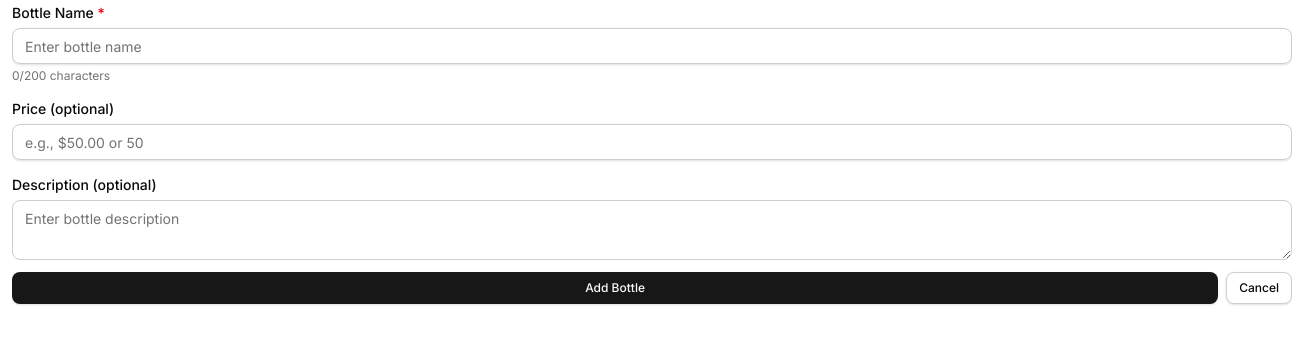
Test case: ItemForm › shows validation error for invalid price format
Type "Merlot" into the field labelled "Bottle Name *". click: [652, 46]
box: [12,28,1292,64]
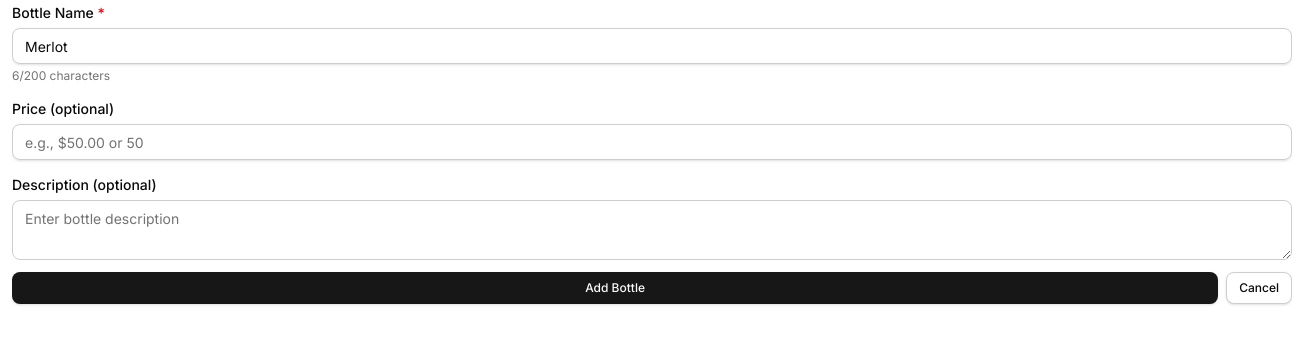
Type "abc" into the field labelled "Price (optional)". click: [652, 142]
box: [12,124,1292,160]
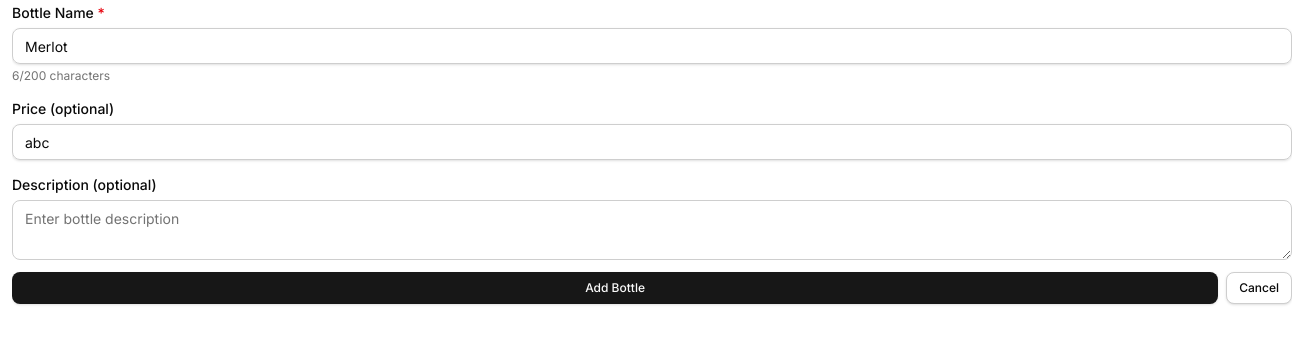
Click the button "Add Bottle". click: [615, 288]
box: [12,272,1218,304]
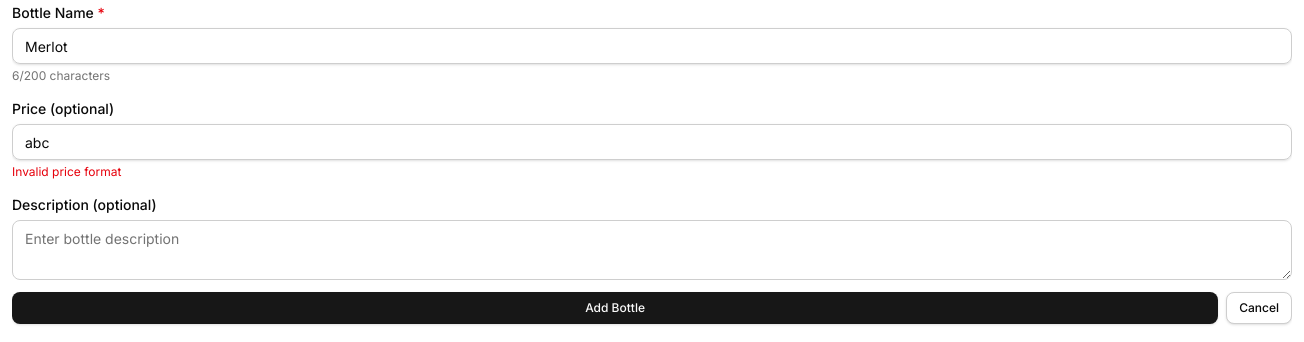
Expected: the text "Invalid price format" is shown, [12,164,121,179]
